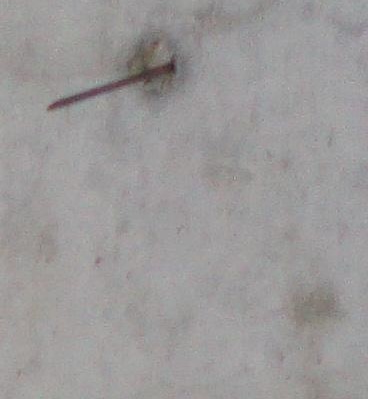Exposed reinforcement: (46, 62, 175, 112)
Spalling: (128, 37, 178, 93)
